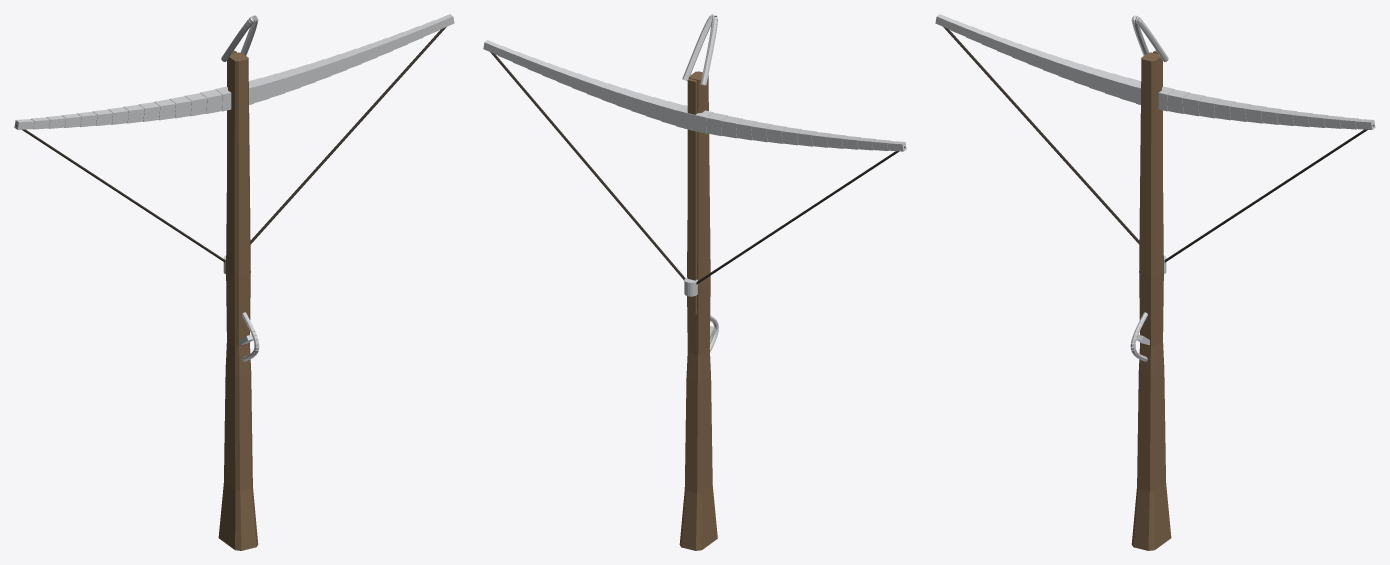
The model's file is SM_Crossbow_Militia01.fbx.
3 renders of one model, left to right at view 1: azimuth 30°, elevation 25°; view 2: azimuth 150°, elevation 25°; view 3: azimuth 330°, elevation 25°, orthographic. The views are drawn at different scales.
Visible parts, largest first — view 1: SM_Crossbow_Militia01; view 2: SM_Crossbow_Militia01; view 3: SM_Crossbow_Militia01.
Part boxes in pixels (left/top/right/bottom): SM_Crossbow_Militia01: left=14, top=14, right=454, bottom=550; SM_Crossbow_Militia01: left=483, top=14, right=906, bottom=550; SM_Crossbow_Militia01: left=935, top=14, right=1375, bottom=550.
Bounding box in the file's own units: 0.6421 × 0.0792 × 0.7536.
